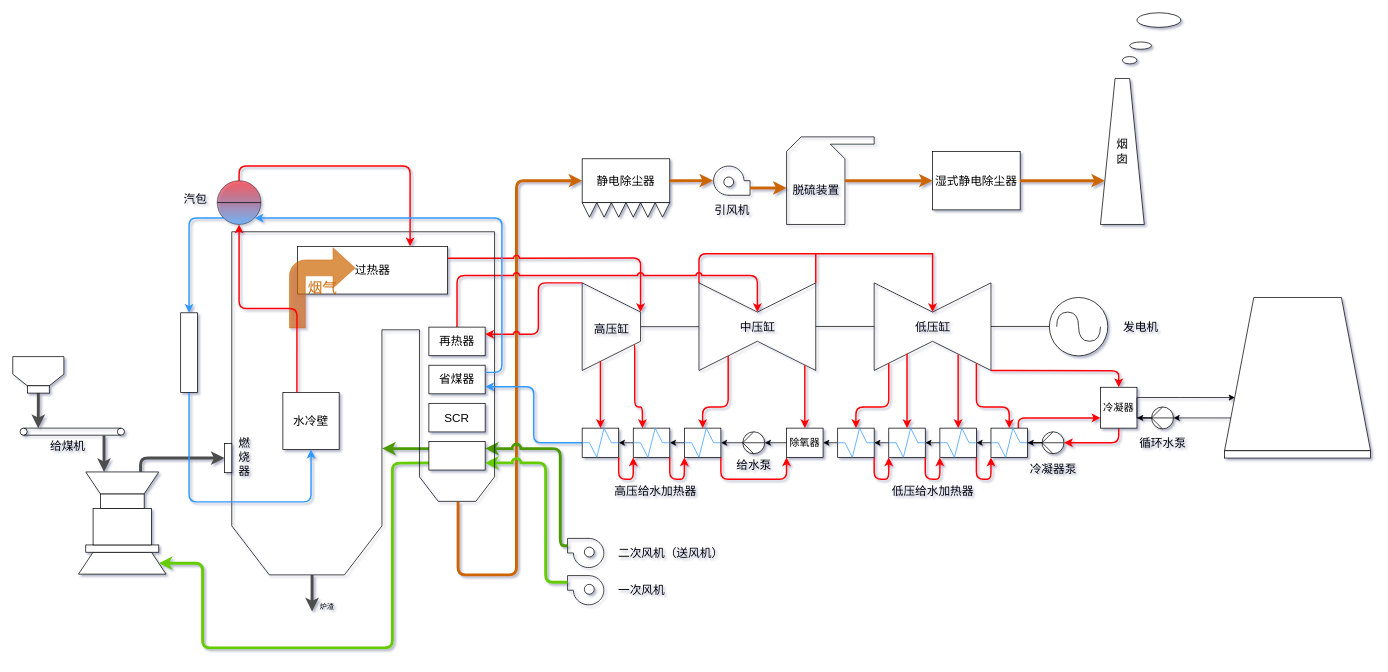
This 1388x672 diagram has some shape labels left out. Each missing label, with the box of its shape:
下 降 管: (180, 312, 197, 392)
冷却塔: (1224, 297, 1371, 451)
原煤仓: (12, 356, 64, 386)
磨煤机: (92, 508, 151, 545)
空气预热器: (428, 441, 485, 470)
